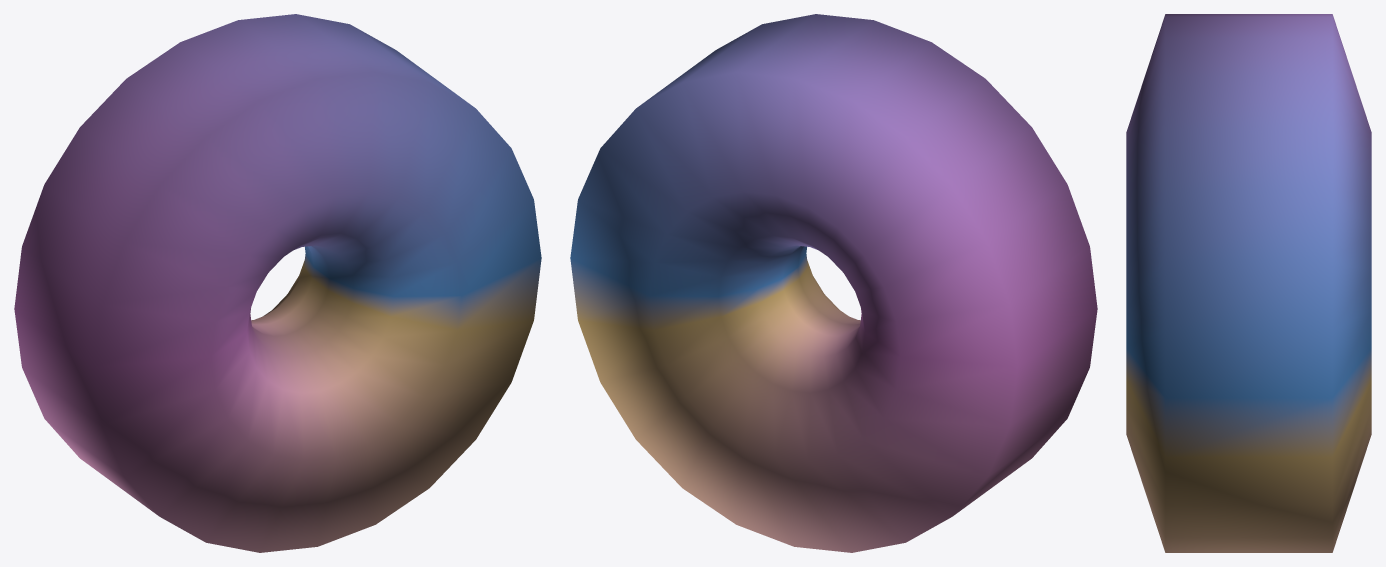
Rendered from example.gltf.
3 renders of one model, left to right at view 1: azimuth 30°, elevation 25°; view 2: azimuth 150°, elevation 25°; view 3: azimuth 270°, elevation 25°, orthographic. The views are drawn at different scales.
Parts seen in each view (by area): view 1: clifford_torus; view 2: clifford_torus; view 3: clifford_torus.
Part boxes in pixels (x1,y1,x2,y2): clifford_torus: (14,14,541,552); clifford_torus: (570,14,1097,552); clifford_torus: (1126,14,1371,552).
Bounding box in the file's own units: 4.32 × 4.32 × 1.96.
